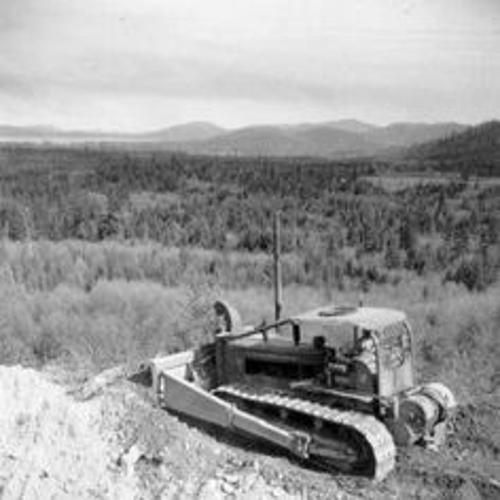con_eq: (150, 301, 458, 478)
